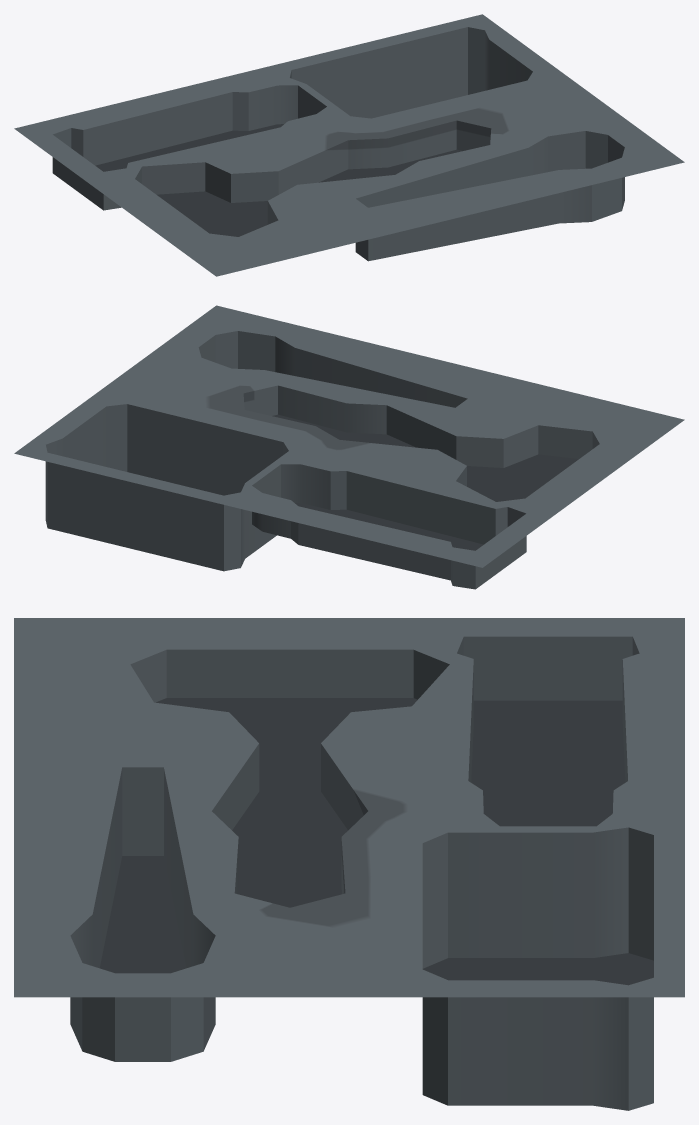
The model's file is SM_Prop_Forensics_Case_01_Insert_03.fbx.
3 views of the same model, one above another, from view 1: azimuth 30°, elevation 25°; view 2: azimuth 150°, elevation 25°; view 3: azimuth 270°, elevation 25° (orthographic). The views are drawn at different scales.
Parts seen in each view (by area): view 1: SM_Prop_Forensics_Case_01_Insert_03; view 2: SM_Prop_Forensics_Case_01_Insert_03; view 3: SM_Prop_Forensics_Case_01_Insert_03.
Boxes of the visible parts, x1,y1,x2,y2 form: SM_Prop_Forensics_Case_01_Insert_03: (14,14,684,276); SM_Prop_Forensics_Case_01_Insert_03: (14,305,684,589); SM_Prop_Forensics_Case_01_Insert_03: (14,618,684,1110).
Bounding box in the file's own units: 58.28 × 9 × 43.59.
